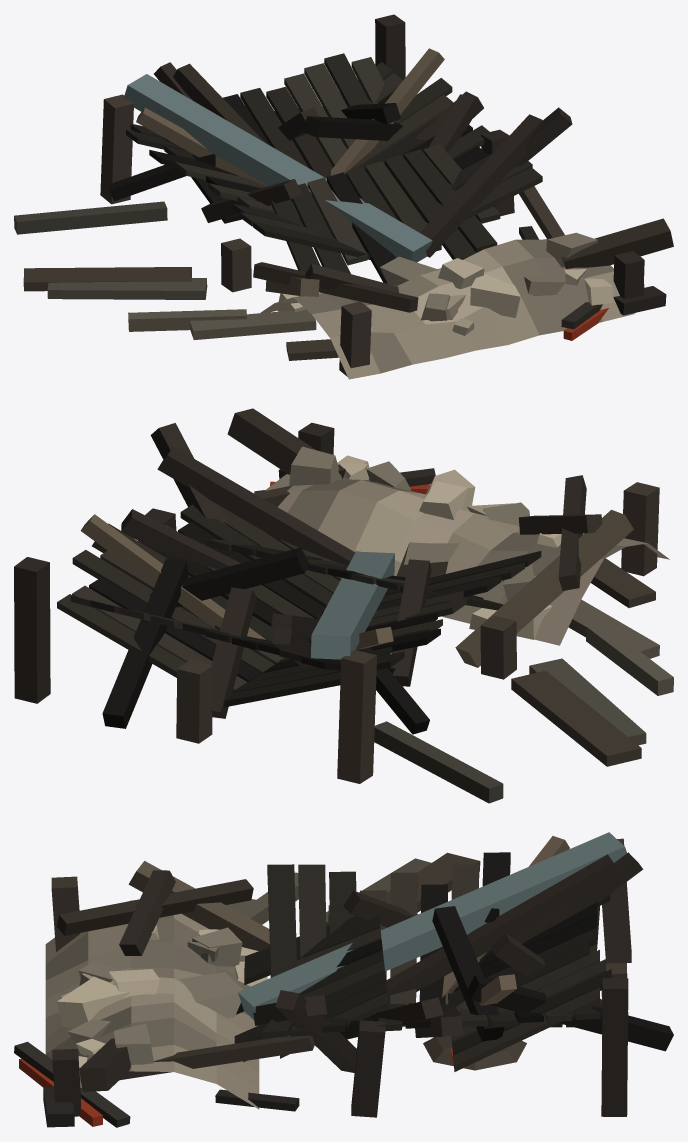
Rendered from VerHut09a.glb.
The picture shows the model from 3 angles, top to bottom: view 1: azimuth 30°, elevation 25°; view 2: azimuth 150°, elevation 25°; view 3: azimuth 270°, elevation 25°; orthographic projection. The views are drawn at different scales.
Parts seen in each view (by area): view 1: VerHut09a_char2; view 2: VerHut09a_char2; view 3: VerHut09a_char2.
Boxes of the visible parts, x1,y1,x2,y2 form: VerHut09a_char2: (14, 14, 673, 379); VerHut09a_char2: (14, 408, 673, 803); VerHut09a_char2: (14, 832, 673, 1127).
Bounding box in the file's own units: 6.24 × 1.53 × 6.25.
